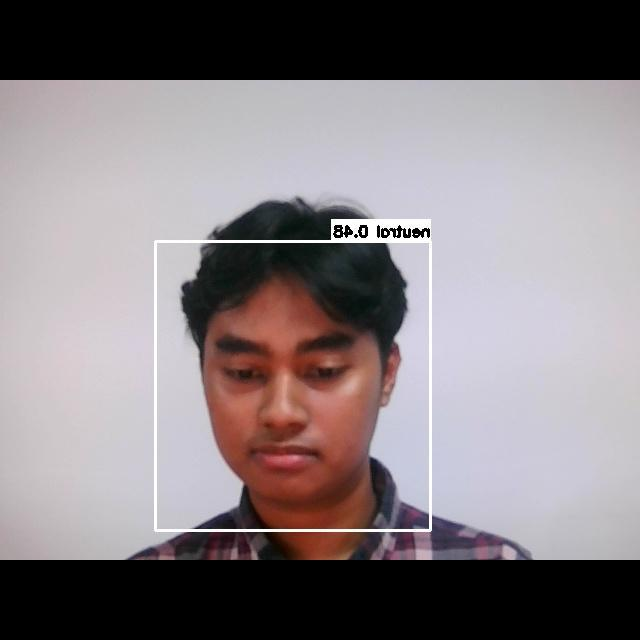Natural: (193, 302, 384, 481)
